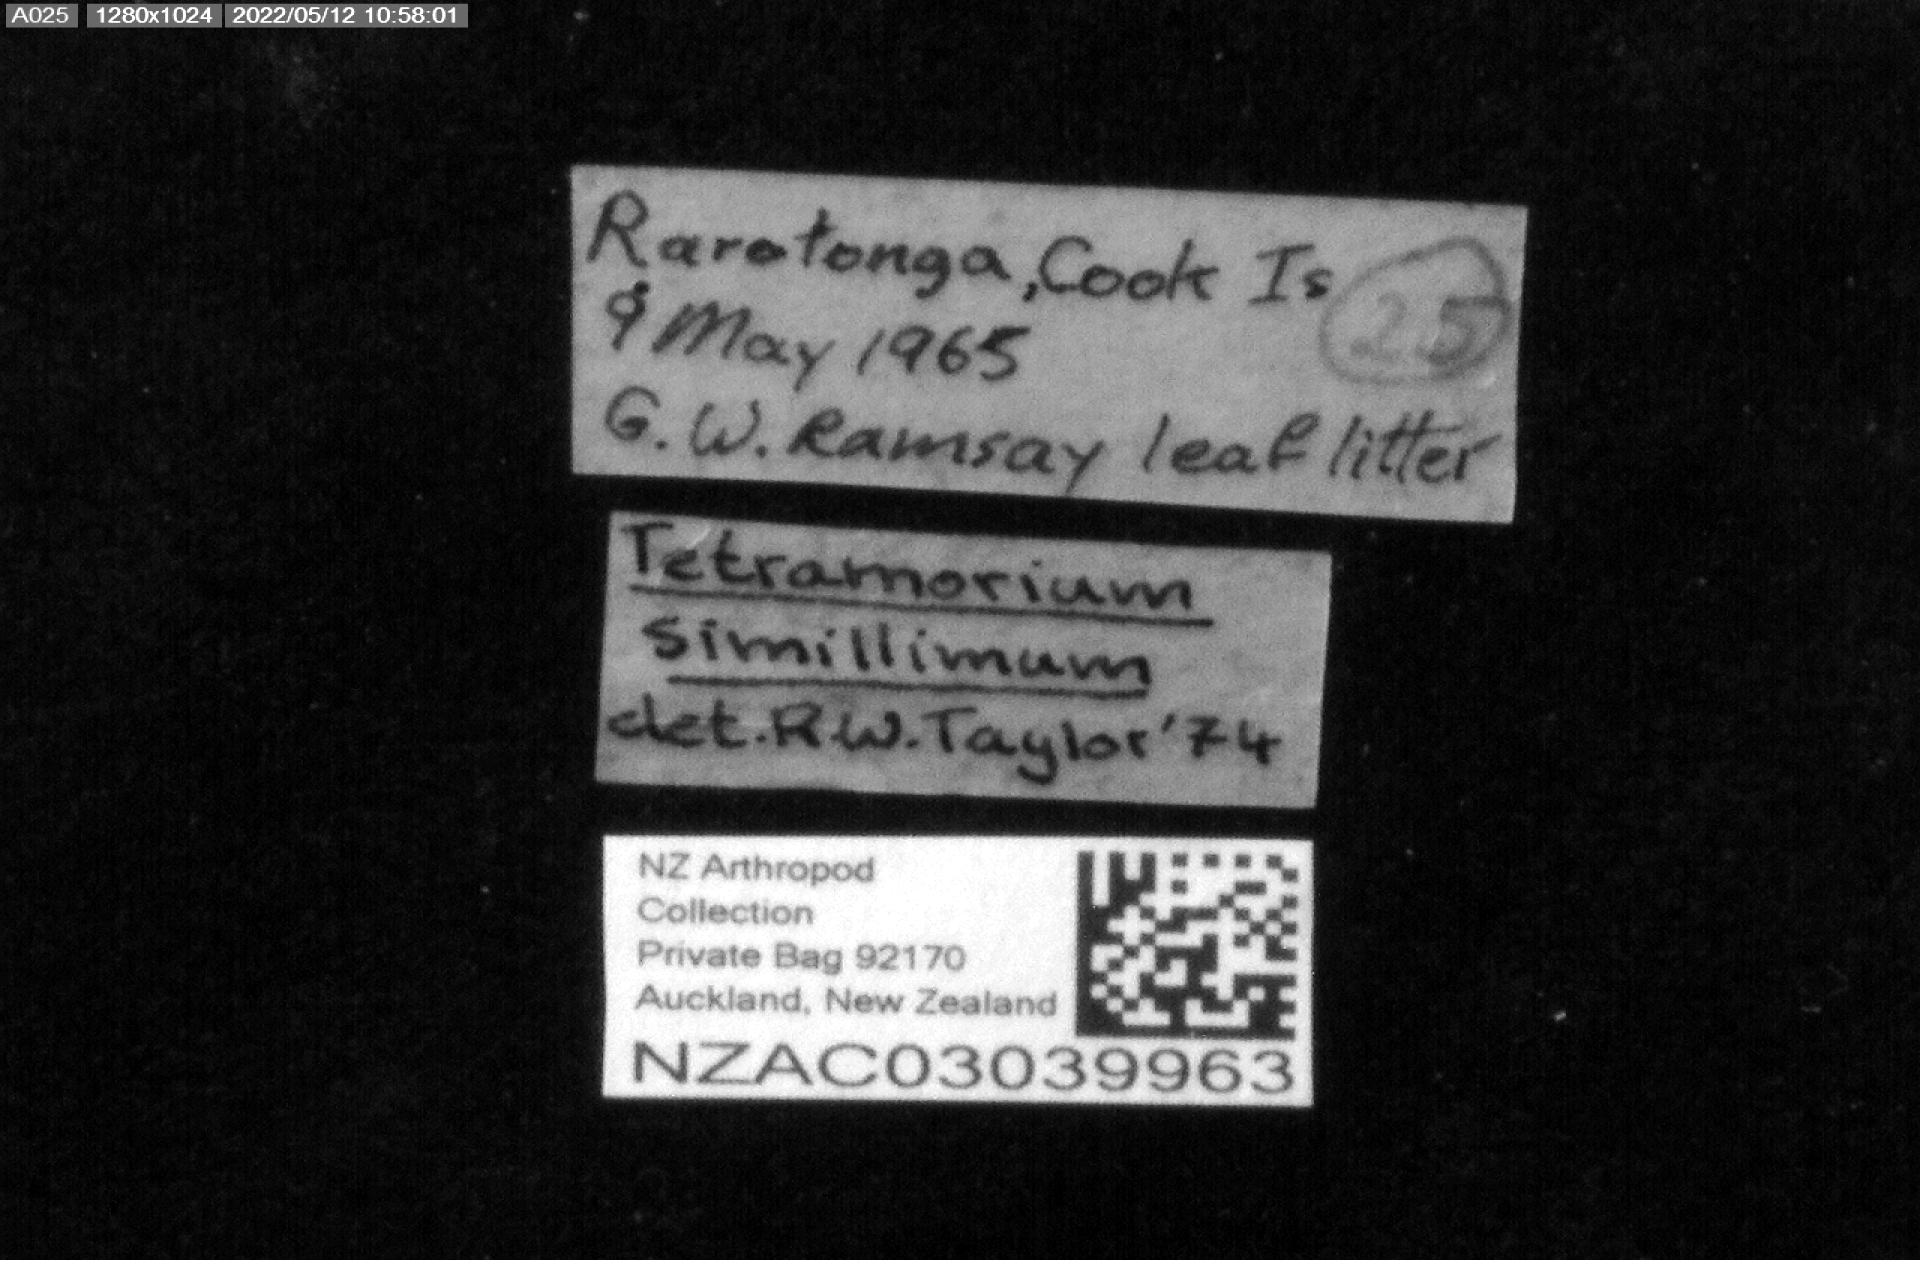hand_label: (570, 166, 1526, 521), (596, 513, 1331, 810)
typed_label: (604, 834, 1313, 1106)
